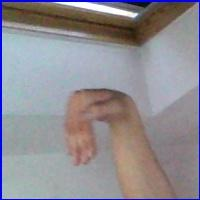del: (67, 83, 147, 174)
